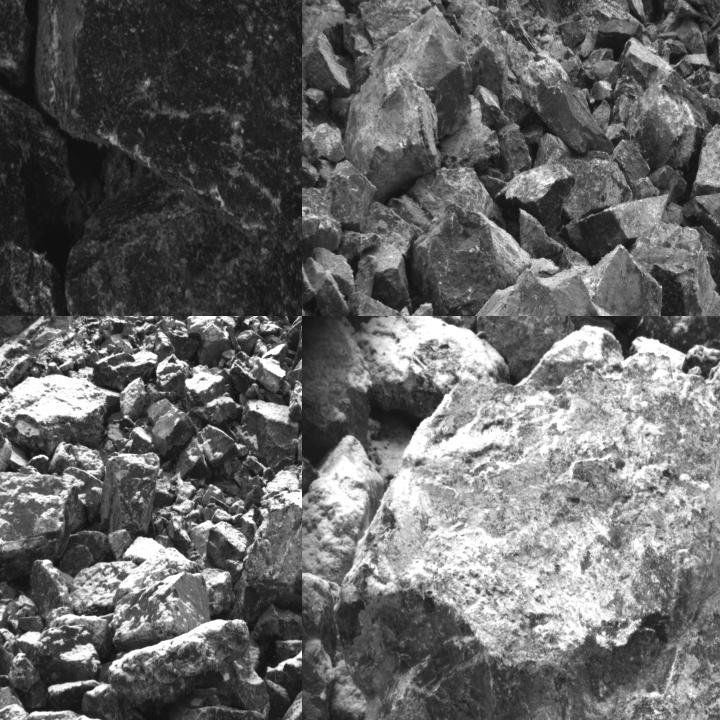stone: (332, 325, 719, 719), (25, 0, 301, 240), (64, 162, 301, 315), (343, 5, 472, 206), (102, 619, 277, 715), (603, 36, 719, 180), (0, 54, 75, 270), (353, 316, 512, 417), (411, 203, 532, 315), (461, 267, 695, 315), (0, 466, 79, 599), (522, 58, 614, 155), (627, 221, 719, 315), (534, 133, 632, 221), (0, 373, 107, 451), (238, 488, 301, 620), (108, 572, 211, 652), (562, 194, 669, 261), (407, 168, 506, 229), (494, 164, 576, 236), (579, 254, 664, 315), (99, 454, 158, 534), (239, 398, 302, 472), (13, 625, 100, 678), (440, 94, 500, 169), (324, 160, 376, 232), (70, 560, 138, 614), (176, 426, 245, 479), (302, 27, 352, 94), (611, 138, 659, 200), (147, 398, 195, 458), (184, 368, 235, 424), (28, 560, 74, 618), (94, 349, 158, 390), (304, 257, 349, 315), (682, 187, 719, 256), (84, 681, 151, 719), (690, 122, 719, 209), (518, 209, 565, 258), (251, 602, 301, 646), (313, 247, 354, 300), (337, 229, 383, 273), (206, 520, 250, 566), (497, 122, 532, 176), (198, 564, 236, 613), (162, 702, 268, 719), (472, 85, 512, 129), (648, 165, 686, 209), (156, 354, 191, 397), (476, 167, 521, 199), (596, 20, 644, 48), (532, 0, 585, 23), (506, 17, 536, 53), (354, 255, 376, 297), (592, 100, 611, 132), (302, 155, 319, 189), (530, 258, 559, 277), (664, 202, 686, 226), (520, 123, 544, 144), (606, 122, 628, 139)
